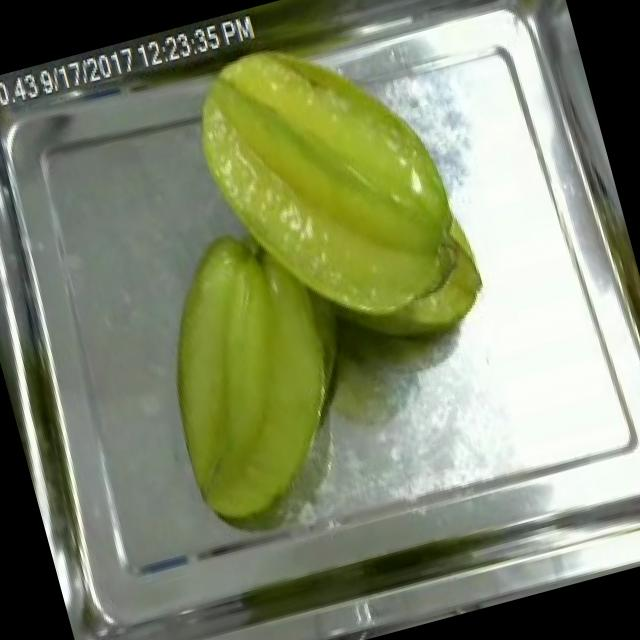fruit: (168, 3, 490, 367), (118, 204, 380, 546)
